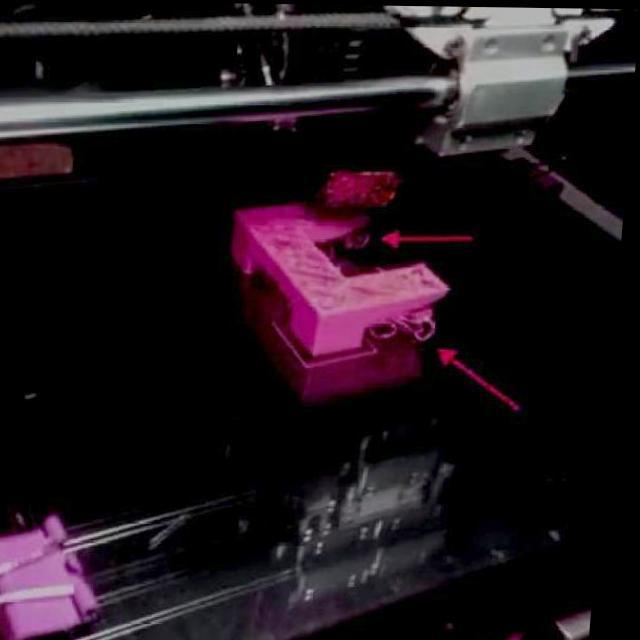spaghetti: (375, 299, 446, 348), (324, 225, 374, 260)
